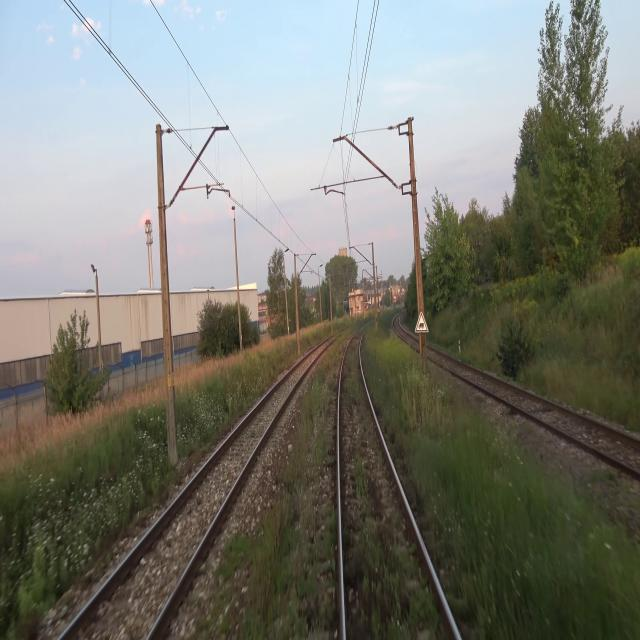rail-track: (63, 335, 337, 639), (340, 327, 456, 639), (426, 346, 640, 471), (394, 316, 419, 348)
